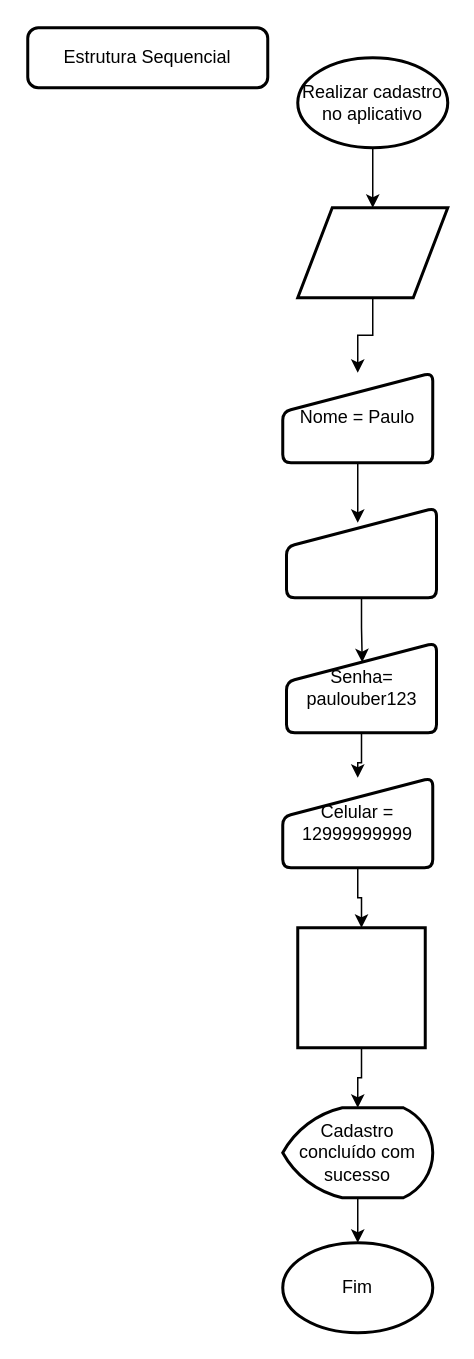
This 474x1359 diagram has some shape labels left out. Here are the shapes that lost their labels. From the top down, the centre of each, then its label:
At point (372, 252): "Nome Email Senha Celular".
At point (360, 552): "Email = paulo@email.com".
At point (361, 987): "Salvar as informações na base de dados do app".
